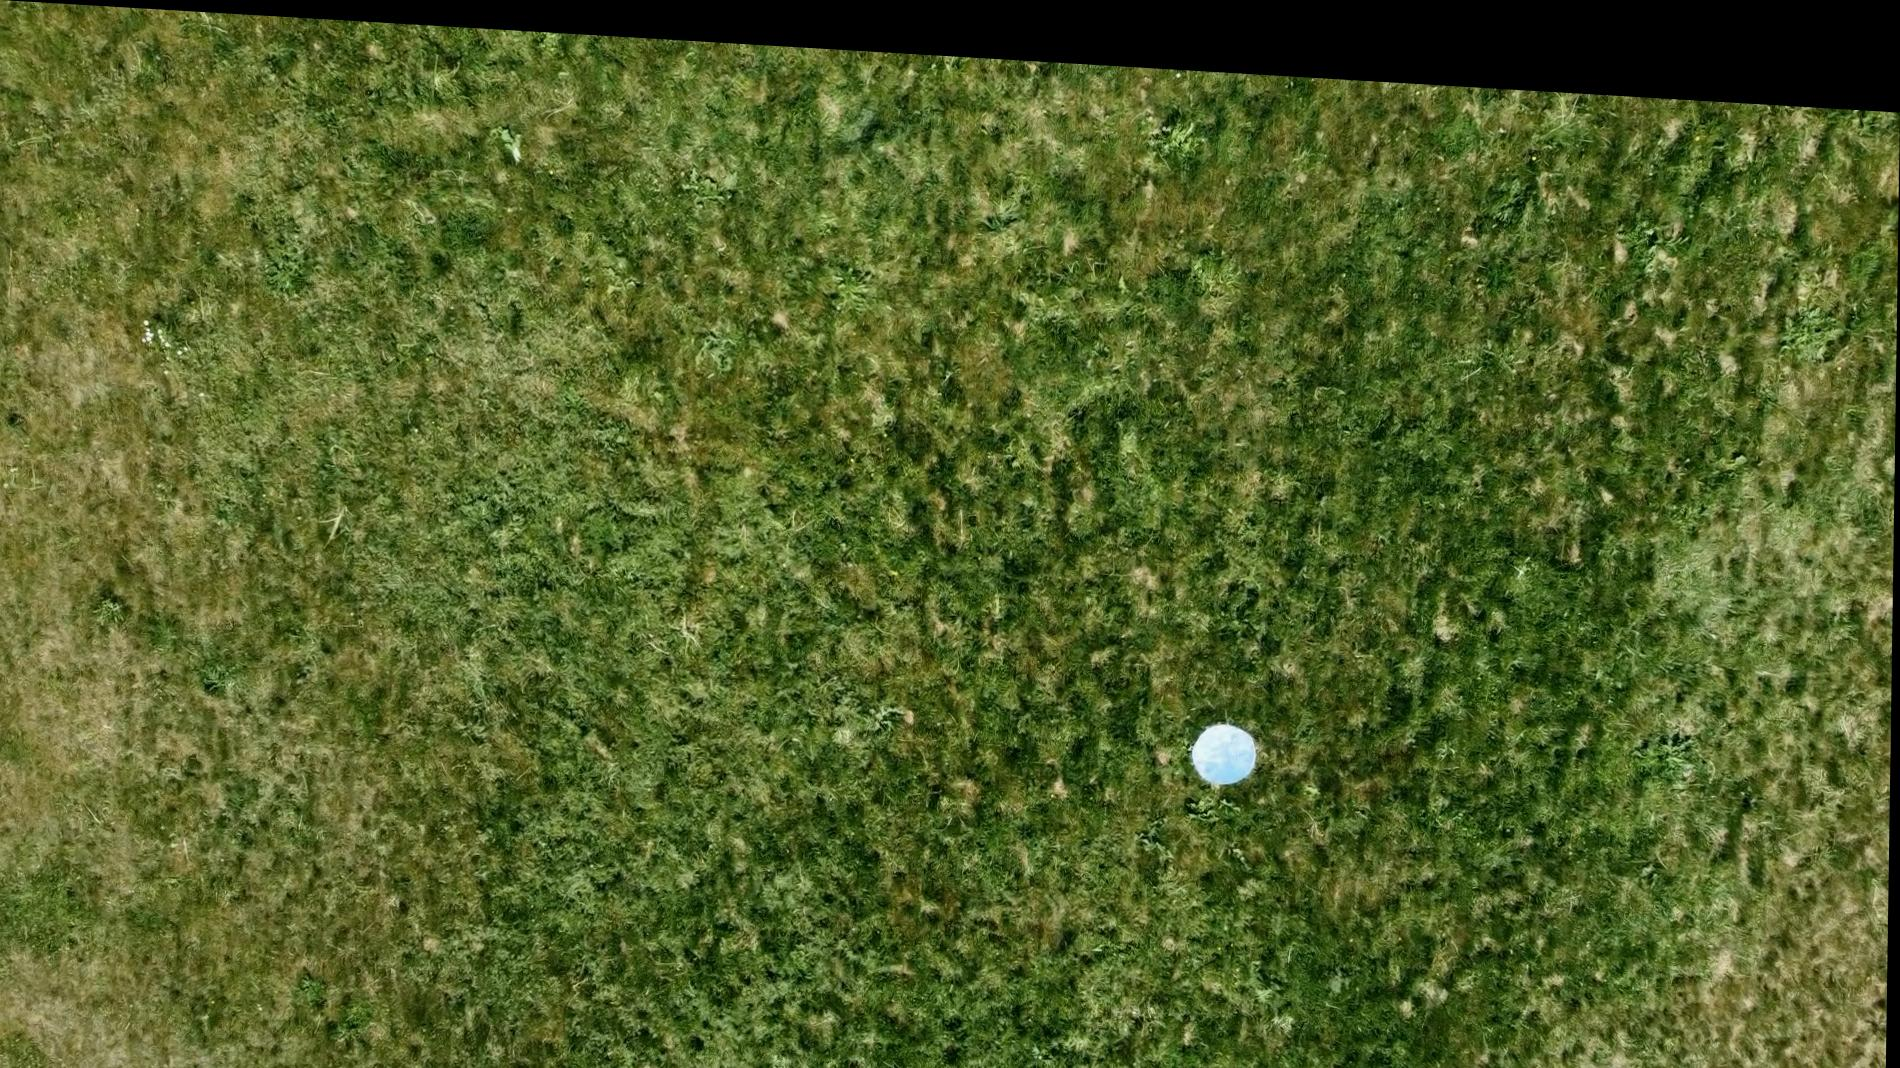Blue: (1190, 705, 1261, 774)
